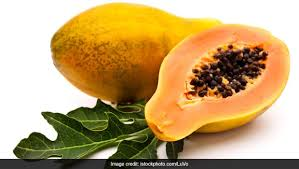papaya: (50, 3, 224, 103), (143, 24, 291, 140)
